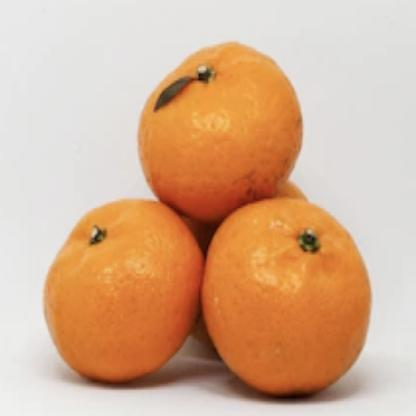fresh: (44, 44, 370, 398)
